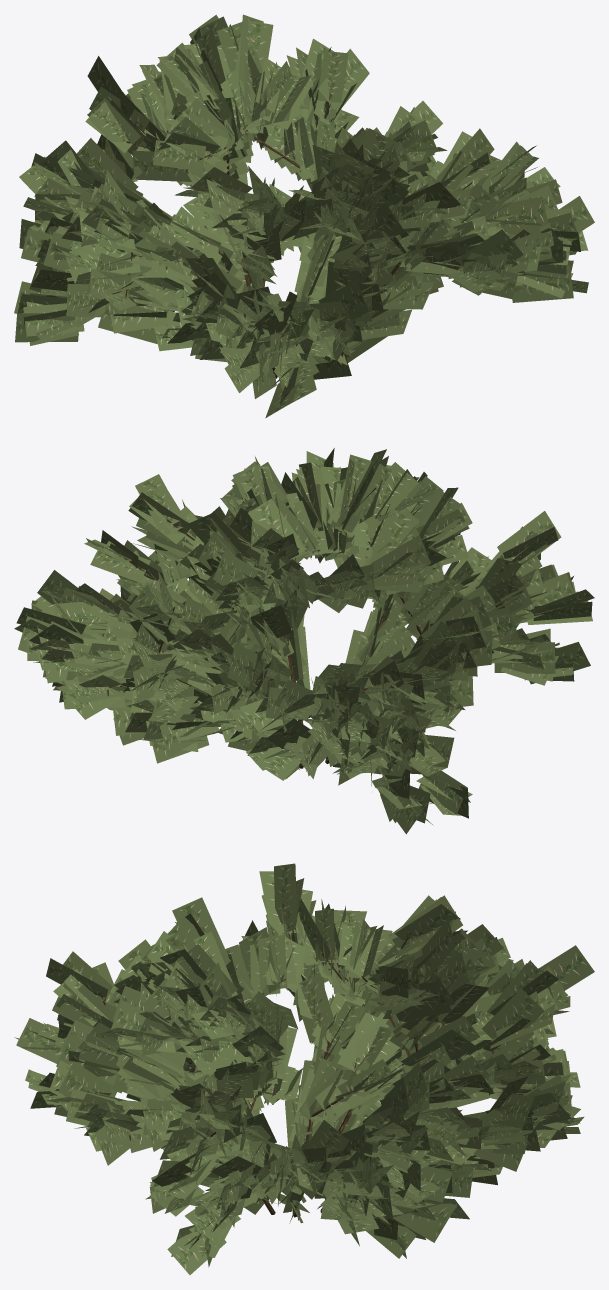
Rendered from thorn_scrub_v01_LOD1.glb.
3 renders of one model, top to bottom at view 1: azimuth 30°, elevation 25°; view 2: azimuth 150°, elevation 25°; view 3: azimuth 270°, elevation 25°, orthographic. The views are drawn at different scales.
Visible parts, largest first — view 1: thorn_scrub_v01_LOD1; view 2: thorn_scrub_v01_LOD1; view 3: thorn_scrub_v01_LOD1.
Boxes of the visible parts, x1,y1,x2,y2 form: thorn_scrub_v01_LOD1: (14,14,594,418); thorn_scrub_v01_LOD1: (14,448,594,834); thorn_scrub_v01_LOD1: (14,863,594,1274).
Size of the model in its own units: 2.72 by 1.5 by 2.62.
2 materials, 2 textured.
